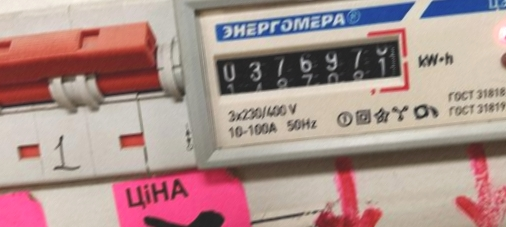0: (219, 59, 237, 82)
1: (375, 55, 389, 77)
3: (246, 58, 263, 83)
6: (297, 50, 313, 73)
7: (271, 52, 287, 78), (348, 45, 364, 69)
9: (322, 48, 338, 72)
screen: (205, 24, 415, 116)
